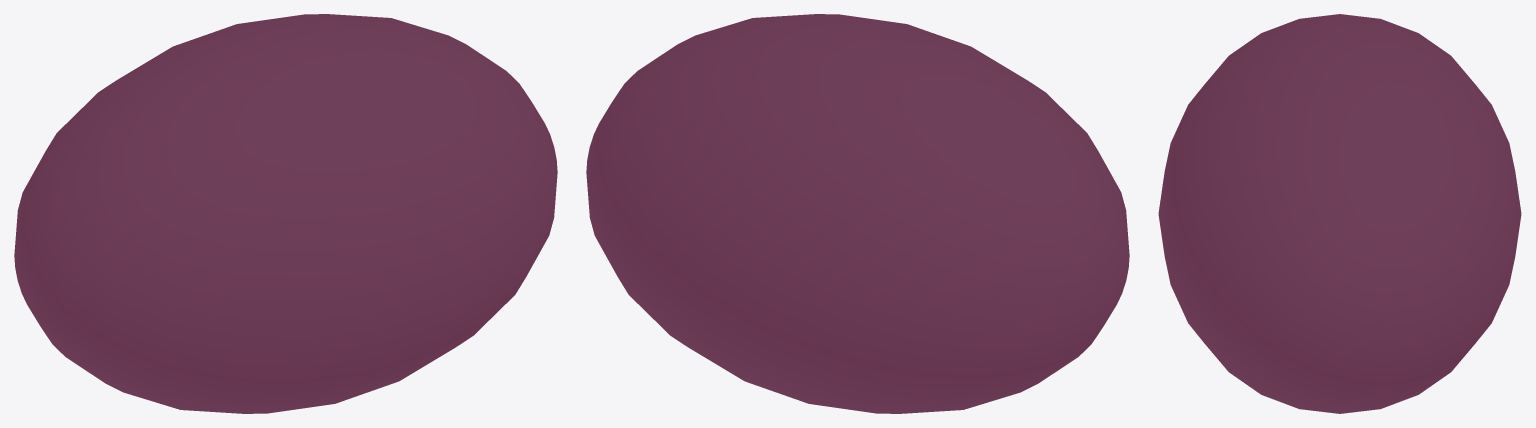
File: Bullet.fbx
3 renders of one model, left to right at view 1: azimuth 30°, elevation 25°; view 2: azimuth 150°, elevation 25°; view 3: azimuth 270°, elevation 25°, orthographic. The views are drawn at different scales.
Visible parts, largest first — view 1: Bullet; view 2: Bullet; view 3: Bullet.
Boxes of the visible parts, bbox=[...] form: Bullet: bbox=[14, 14, 557, 413]; Bullet: bbox=[586, 14, 1129, 413]; Bullet: bbox=[1158, 14, 1521, 413].
Size of the model in its own units: 29 by 19.33 by 19.33.
